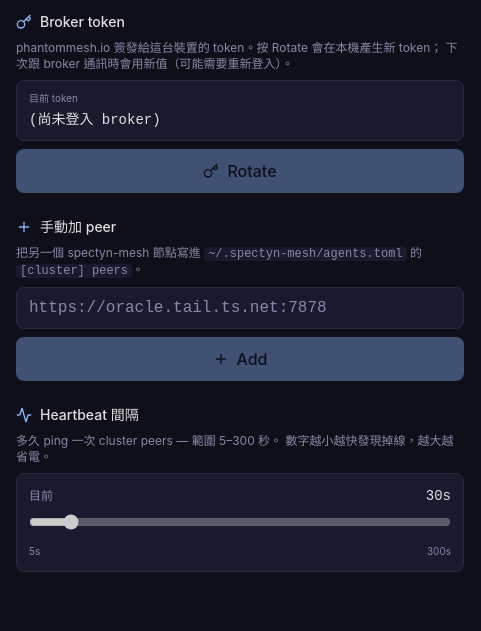
<MobileNodeAdmin /> — heartbeat-interval slider › surfaces failure pill when set_heartbeat_interval rejects
The width and height of the screenshot is (481, 631).
Expected: the text with test id "heartbeat-value" reads "30s", left=426, top=486, right=451, bottom=506
Set the slider with test id "heartbeat-slider" to "200" at (305, 522), box left=29, top=514, right=451, bottom=530
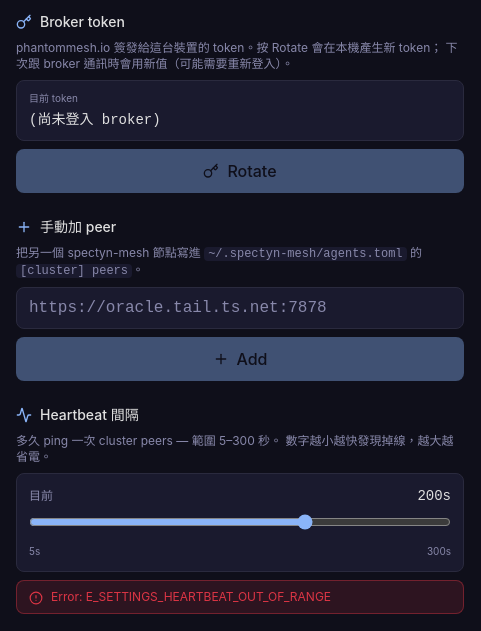
Result: the element with test id "heartbeat-pill" shows "E_SETTINGS_HEARTBEAT_OUT_OF_RANGE" at left=51, top=589, right=331, bottom=604
